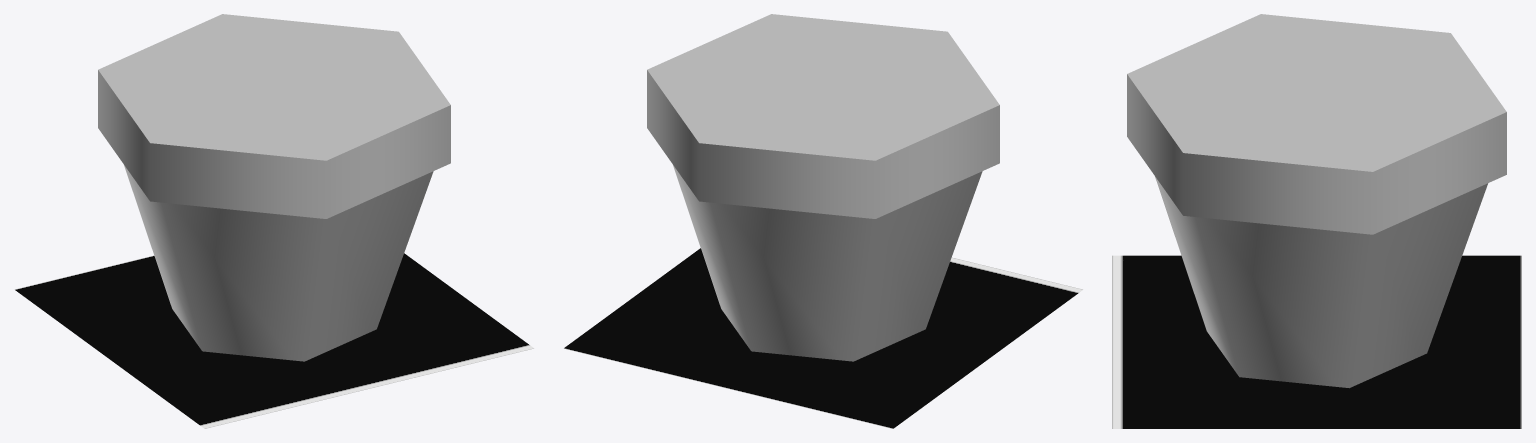
The model's file is vase_07.fbx.
3 views of the same model, side by side, from view 1: azimuth 30°, elevation 25°; view 2: azimuth 150°, elevation 25°; view 3: azimuth 270°, elevation 25° (orthographic). The views are drawn at different scales.
Visible parts, largest first — view 1: vase_07, shadow; view 2: vase_07, shadow; view 3: vase_07, shadow.
Part boxes in pixels (x1,y1,x2,y2): vase_07: (98, 14, 450, 361); shadow: (15, 253, 533, 428); vase_07: (647, 14, 999, 361); shadow: (564, 248, 1082, 428); vase_07: (1127, 14, 1506, 388); shadow: (1112, 255, 1521, 428).
Size of the model in its own units: 10.49 by 7.44 by 10.49.
